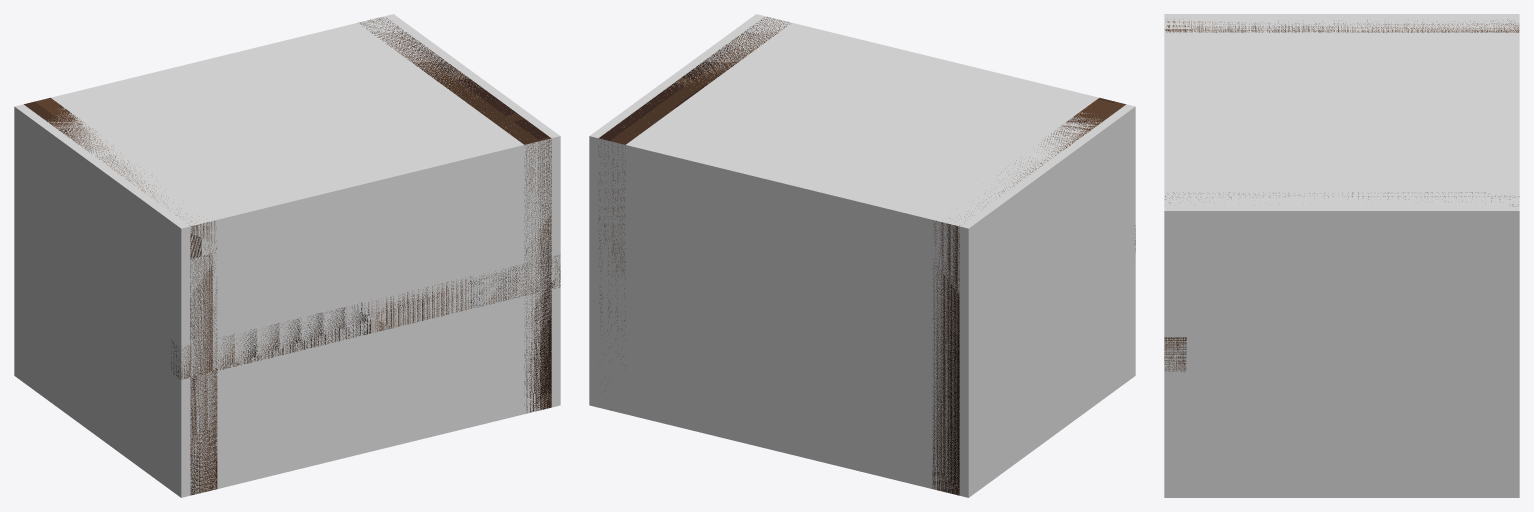
Rendered from JP_Prop_Crate_A.glb.
3 renders of one model, left to right at view 1: azimuth 30°, elevation 25°; view 2: azimuth 150°, elevation 25°; view 3: azimuth 270°, elevation 25°, orthographic. The views are drawn at different scales.
Visible parts, largest first — view 1: COL_JP_Prop_Crate_A, JP_Prop_Crate_A; view 2: COL_JP_Prop_Crate_A, JP_Prop_Crate_A; view 3: COL_JP_Prop_Crate_A, JP_Prop_Crate_A.
Boxes of the visible parts, <box> form: COL_JP_Prop_Crate_A: <box>14,14,560,497</box>; JP_Prop_Crate_A: <box>24,17,560,495</box>; COL_JP_Prop_Crate_A: <box>589,14,1135,497</box>; JP_Prop_Crate_A: <box>598,17,1135,495</box>; COL_JP_Prop_Crate_A: <box>1164,14,1519,497</box>; JP_Prop_Crate_A: <box>1164,20,1519,371</box>.
Bounding box in the file's own units: 0.84 × 0.57 × 0.64.
2 materials, 2 textured.
